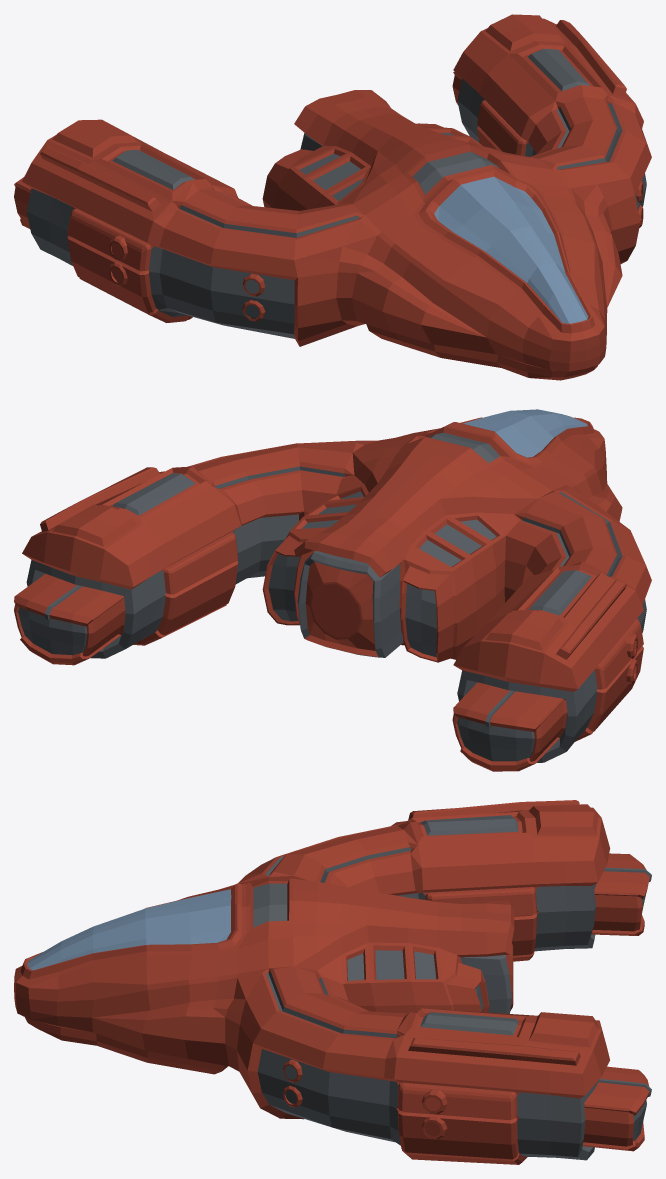
File: Fighter_08_Body_Red.fbx
3 renders of one model, top to bottom at view 1: azimuth 30°, elevation 25°; view 2: azimuth 150°, elevation 25°; view 3: azimuth 270°, elevation 25°, orthographic.
Visible parts, largest first — view 1: Fighter_08_Body_Red; view 2: Fighter_08_Body_Red; view 3: Fighter_08_Body_Red.
Part boxes in pixels (x1,y1,x2,y2): Fighter_08_Body_Red: (14, 14, 651, 380); Fighter_08_Body_Red: (14, 409, 651, 771); Fighter_08_Body_Red: (14, 800, 651, 1164).
Size of the model in its own units: 1805 by 524 by 1797.
Materials: 3 (3 with a texture image).
